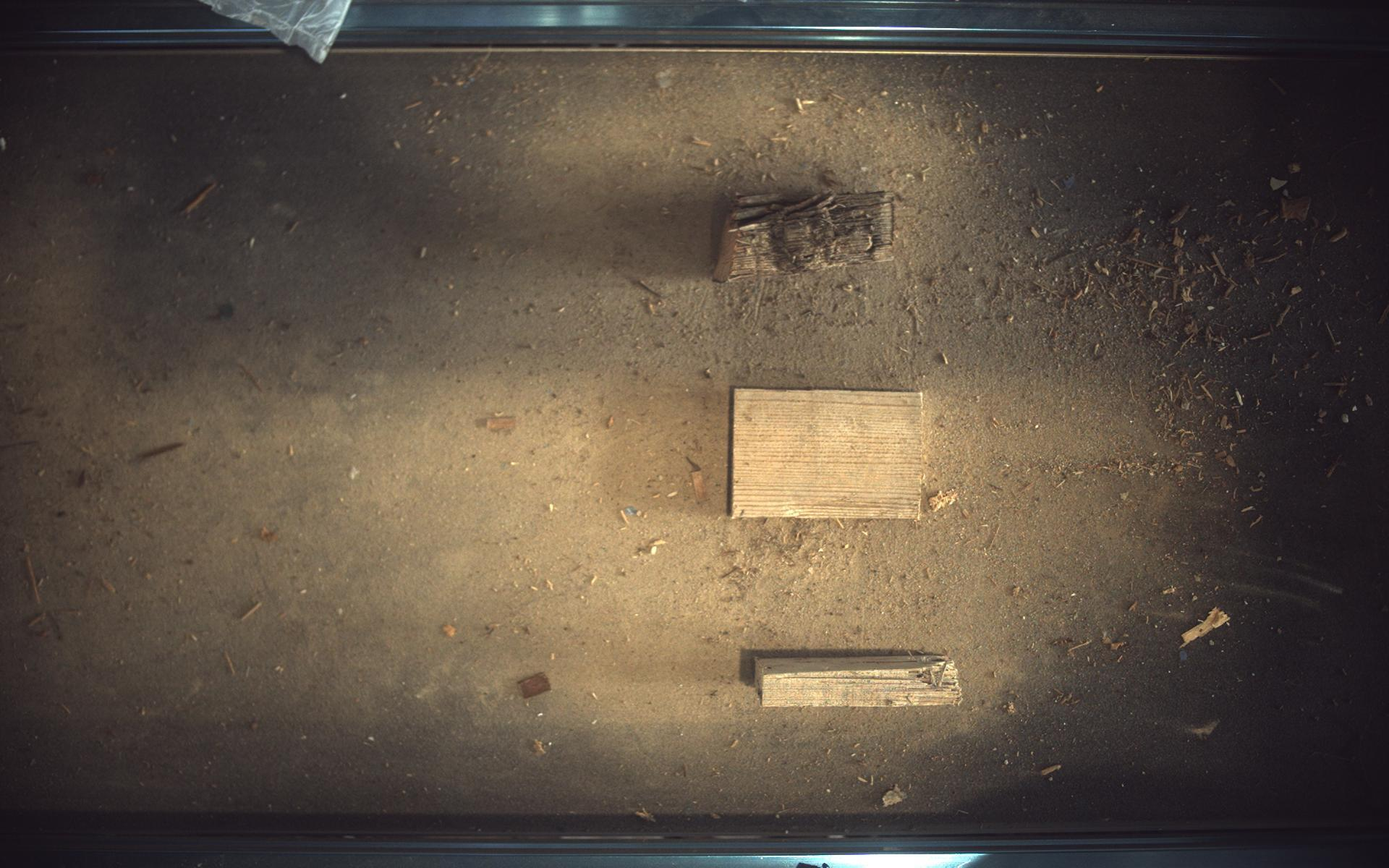wood: (732, 388, 924, 519), (708, 183, 904, 287), (755, 655, 964, 708)
